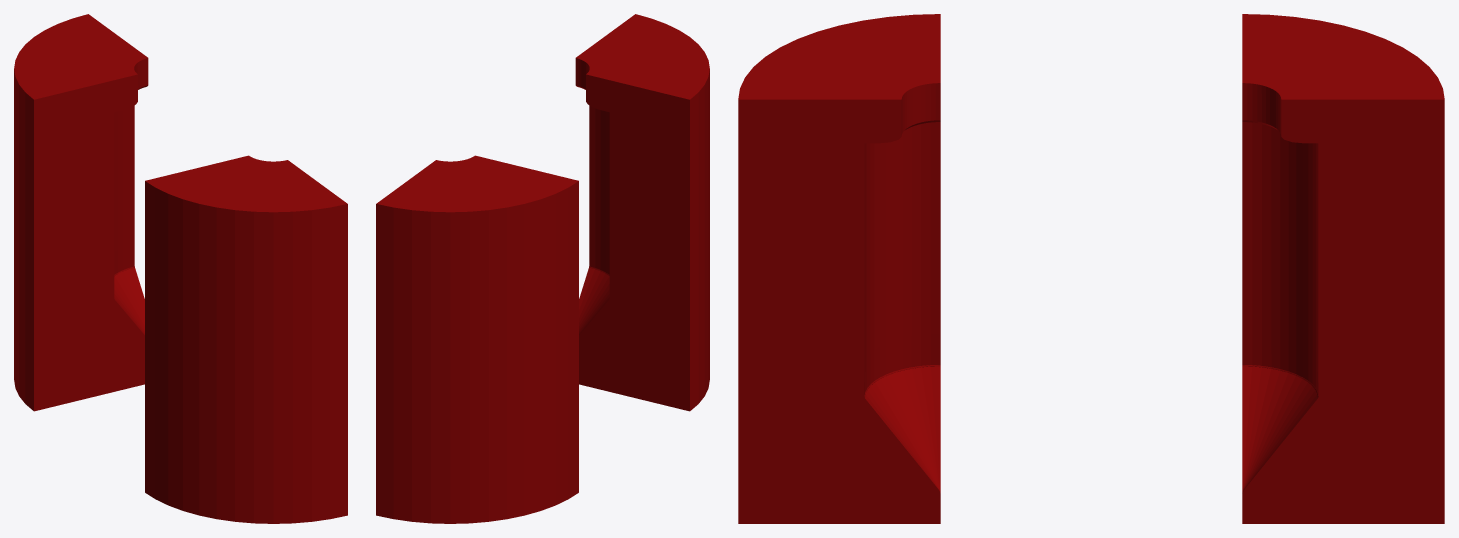
The model's file is ParedGirosDentro.fbx.
The picture shows the model from 3 angles, left to right: view 1: azimuth 30°, elevation 25°; view 2: azimuth 150°, elevation 25°; view 3: azimuth 270°, elevation 25°; orthographic projection. The views are drawn at different scales.
Visible parts, largest first — view 1: GiroDentroIzq, GiroDentroDcha; view 2: GiroDentroDcha, GiroDentroIzq; view 3: GiroDentroDcha, GiroDentroIzq.
Boxes of the visible parts, box(x1,y1,x2,y2) form: GiroDentroIzq: box(145, 155, 347, 523); GiroDentroDcha: box(14, 14, 148, 411); GiroDentroDcha: box(376, 155, 578, 523); GiroDentroIzq: box(575, 14, 709, 411); GiroDentroDcha: box(1242, 14, 1444, 523); GiroDentroIzq: box(738, 14, 940, 523).
Size of the model in its own units: 134 by 311 by 469.
